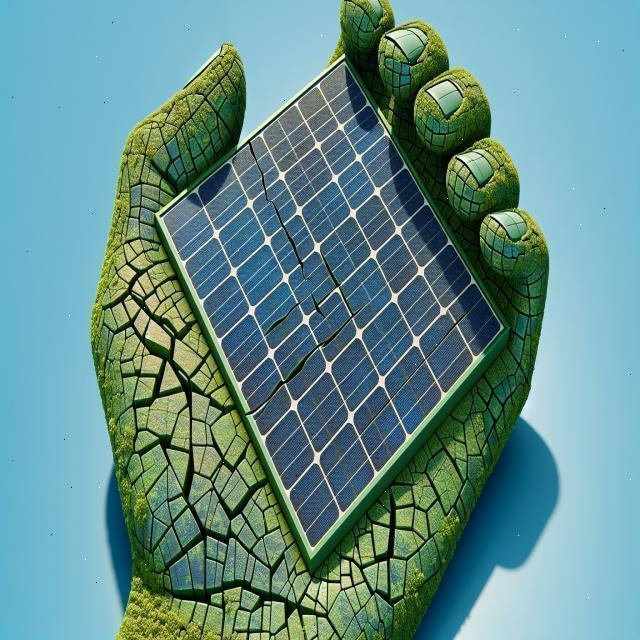Anomaly Solar Panel: (102, 56, 550, 548)
Structural Damage: (228, 277, 370, 420), (241, 139, 311, 284), (260, 292, 308, 337), (304, 279, 335, 320), (315, 249, 338, 285)
